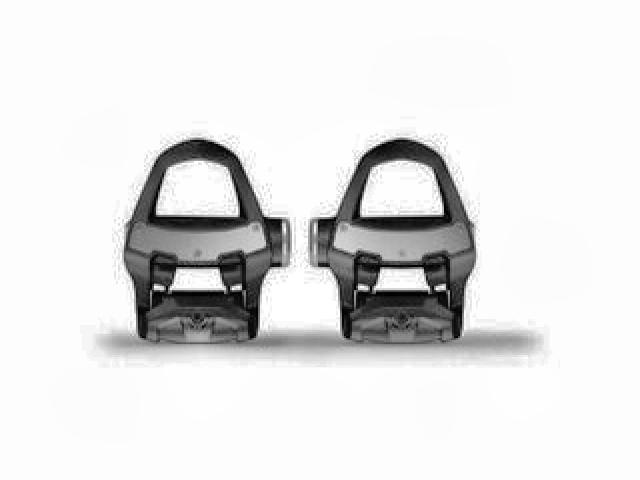pedal: (304, 130, 482, 351), (118, 134, 295, 350)
